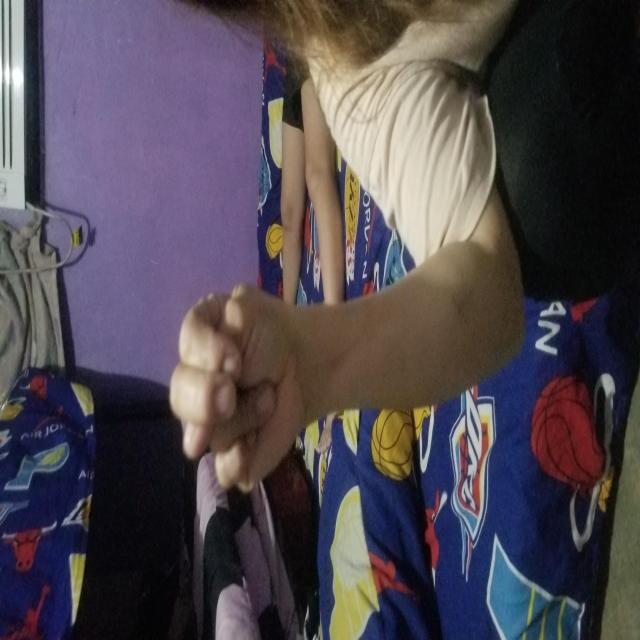N: (147, 168, 356, 298)
